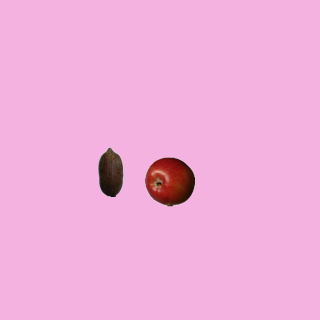Apple Braeburn: (144, 156, 194, 206)
Nut Pecan: (85, 146, 135, 196)
